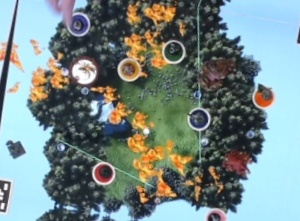blue: (183, 101, 214, 131)
green: (157, 34, 188, 67)
orange: (251, 83, 277, 111)
pink: (199, 203, 229, 221)
red: (88, 155, 118, 186)
violet: (63, 8, 95, 38)
yellow: (114, 52, 145, 82)
